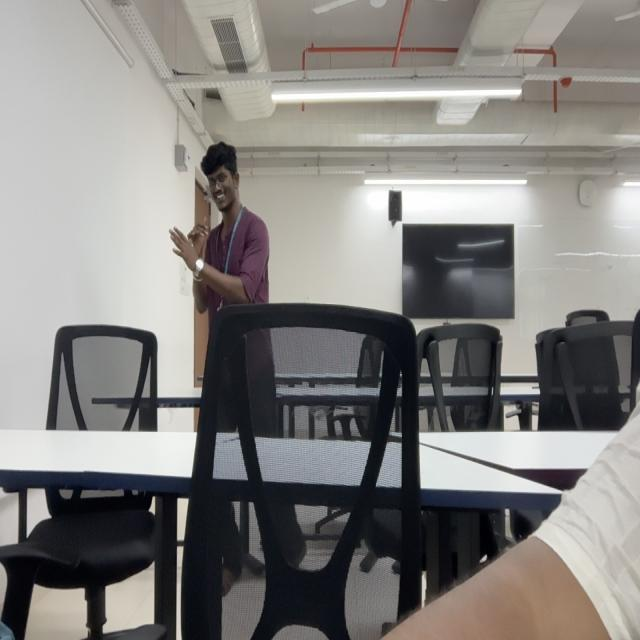ravindra: (200, 142, 240, 215)
